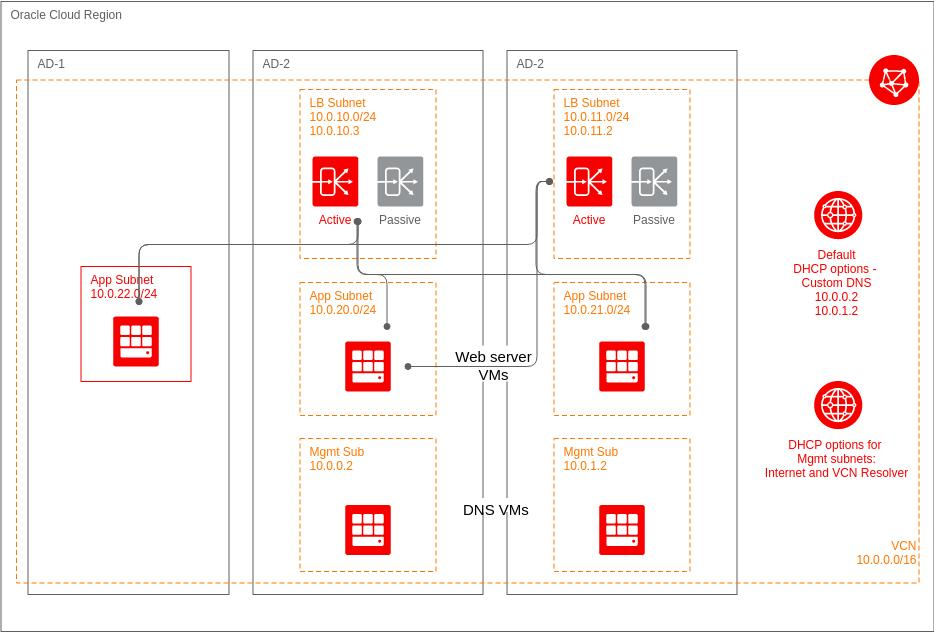Backend: (598, 503, 651, 558), (348, 342, 395, 389), (346, 508, 388, 556), (112, 321, 159, 361), (607, 345, 641, 388)
Load Balancer: (313, 156, 358, 210), (564, 158, 612, 206)
Networking: (814, 188, 861, 240), (817, 382, 862, 430)
